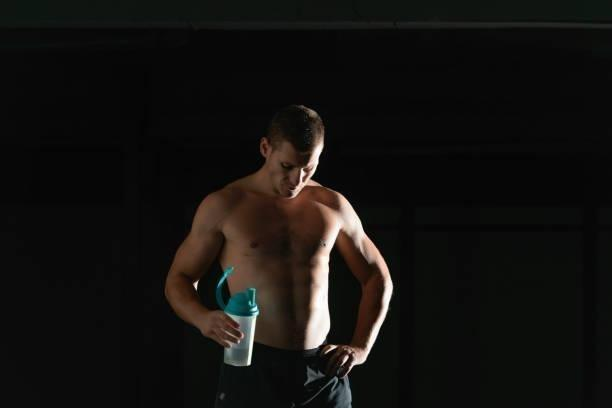cup-disposable: (220, 286, 259, 367)
